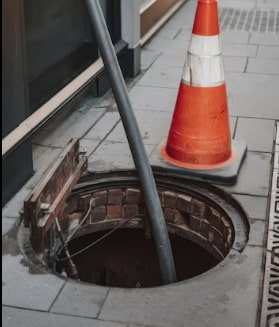open_manhole: (38, 166, 255, 289)
